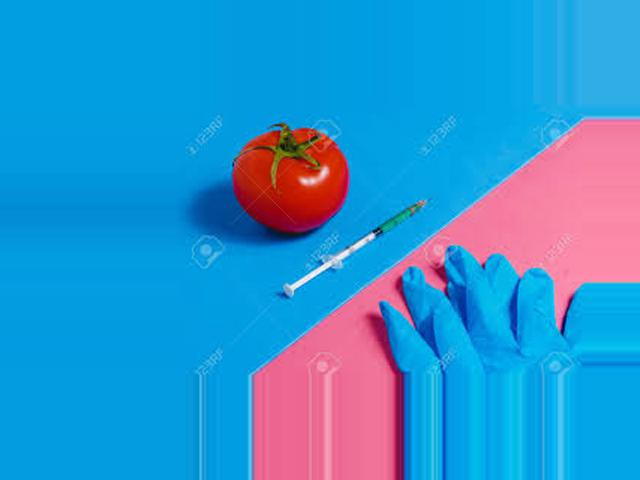tomato: (234, 129, 349, 234)
